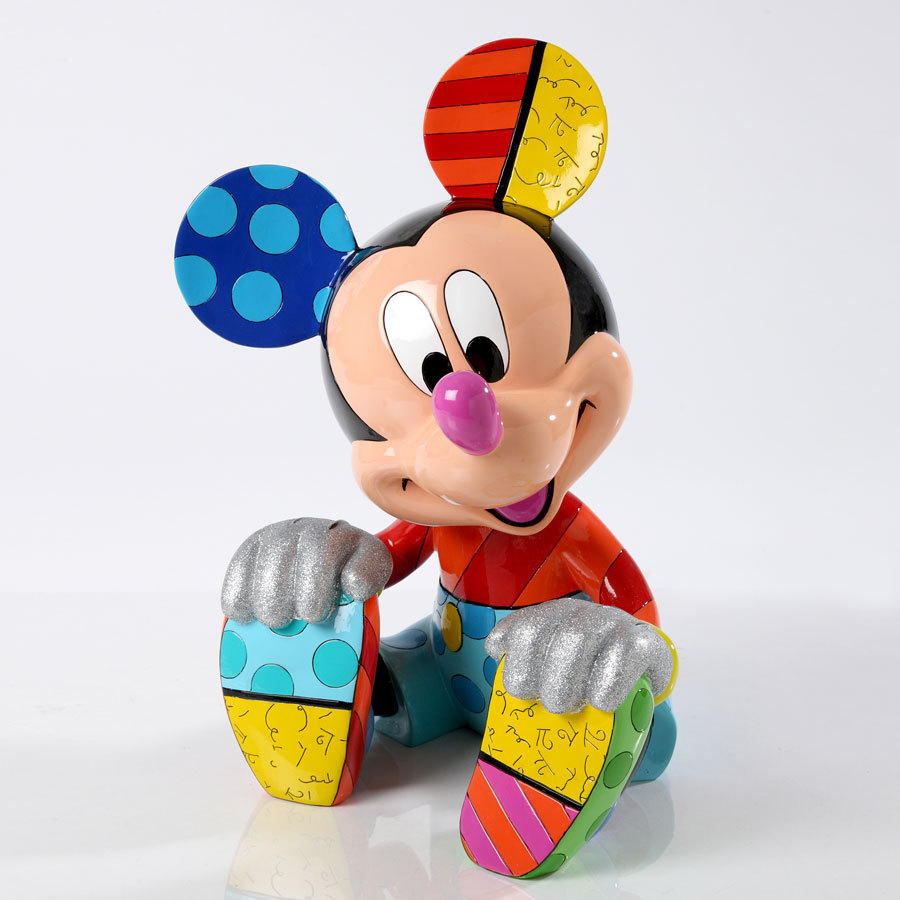Mickey: (166, 28, 635, 536)
